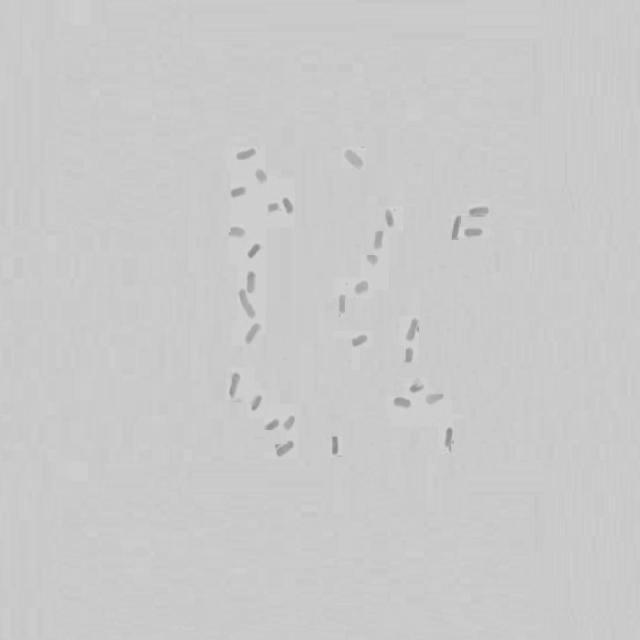E-coli: (342, 146, 367, 171), (236, 293, 258, 318), (402, 319, 422, 341), (382, 203, 398, 230), (468, 201, 490, 220), (442, 421, 455, 453), (280, 192, 297, 215), (349, 330, 370, 348), (275, 441, 297, 458), (450, 211, 462, 241), (226, 221, 244, 241), (243, 322, 261, 342), (227, 370, 240, 397), (463, 224, 484, 240), (372, 227, 384, 252), (329, 434, 342, 457), (246, 267, 257, 294), (230, 183, 246, 201), (235, 145, 254, 160), (392, 394, 410, 409), (352, 279, 370, 294), (337, 290, 346, 318), (248, 394, 262, 412), (254, 167, 268, 184), (248, 243, 263, 258), (426, 394, 445, 405), (403, 345, 414, 364), (364, 253, 378, 267), (264, 419, 278, 432), (285, 414, 295, 432), (409, 379, 422, 392), (265, 200, 278, 211)
